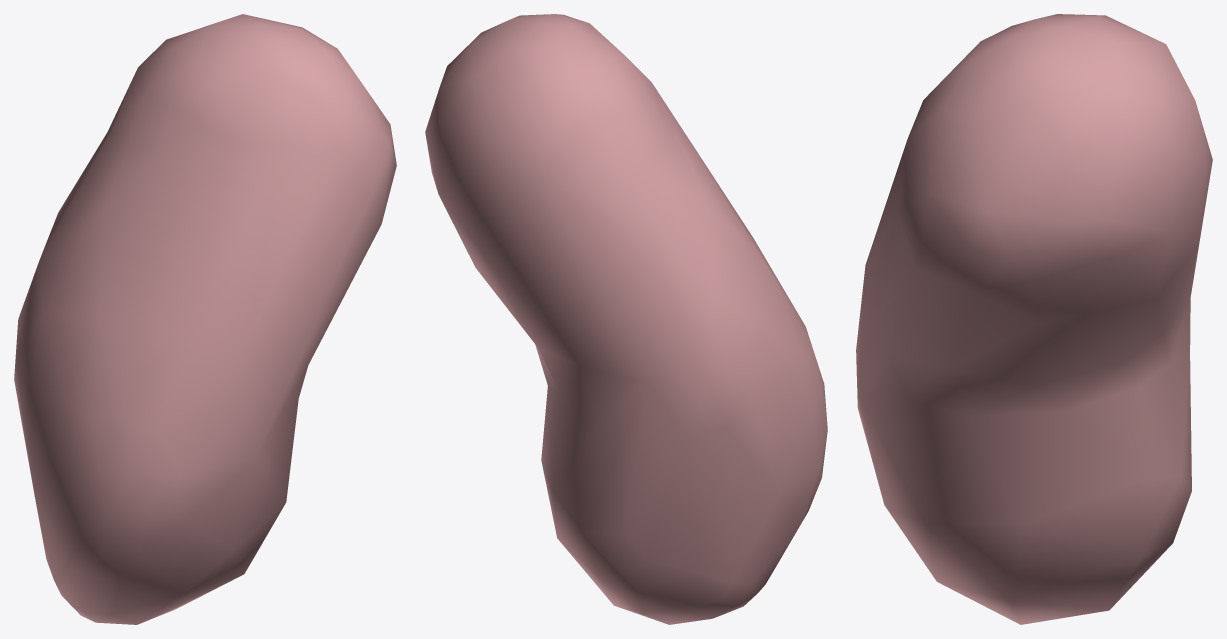
The model's file is fma16982_fj2608.glb.
The picture shows the model from 3 angles, left to right: view 1: azimuth 30°, elevation 25°; view 2: azimuth 150°, elevation 25°; view 3: azimuth 270°, elevation 25°; orthographic projection. The views are drawn at different scales.
Visible parts, largest first — view 1: FMA16982_FJ2608; view 2: FMA16982_FJ2608; view 3: FMA16982_FJ2608.
Part boxes in pixels (bbox=[...]): FMA16982_FJ2608: bbox=[14, 14, 396, 624]; FMA16982_FJ2608: bbox=[425, 14, 827, 624]; FMA16982_FJ2608: bbox=[856, 14, 1212, 624].
Size of the model in its own units: 0.0331 by 0.0508 by 0.0249.
